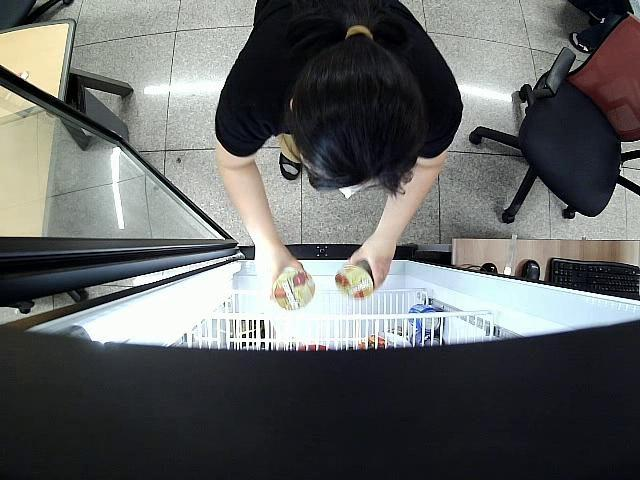04_chapagetti_S: (272, 267, 316, 308), (335, 259, 375, 299)
